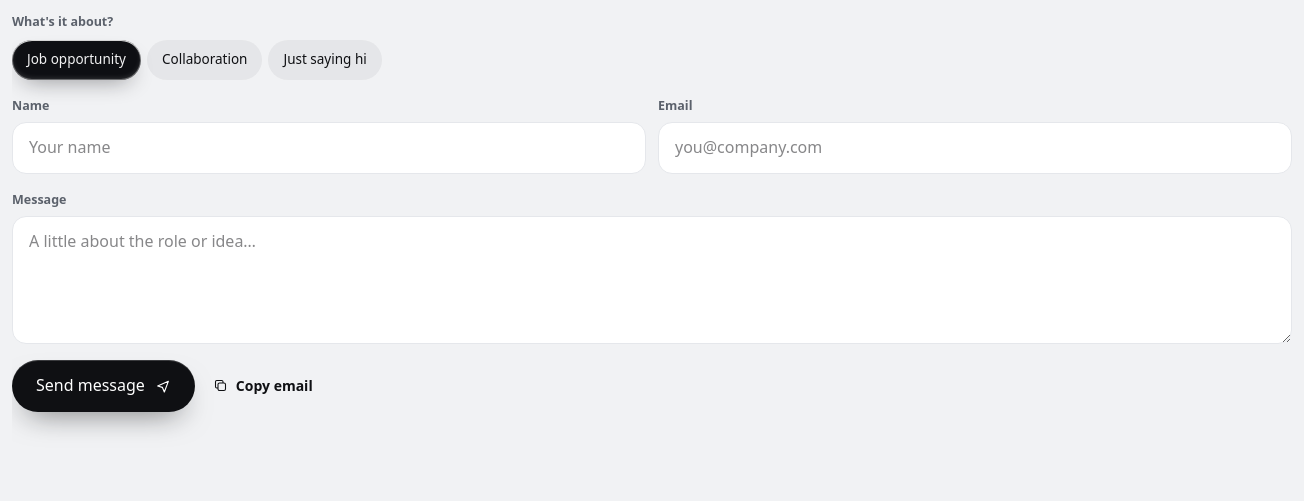
Test case: contact delivery states › validates locally before any request
Click the button "Send message": (103, 386) [12,360,195,412]
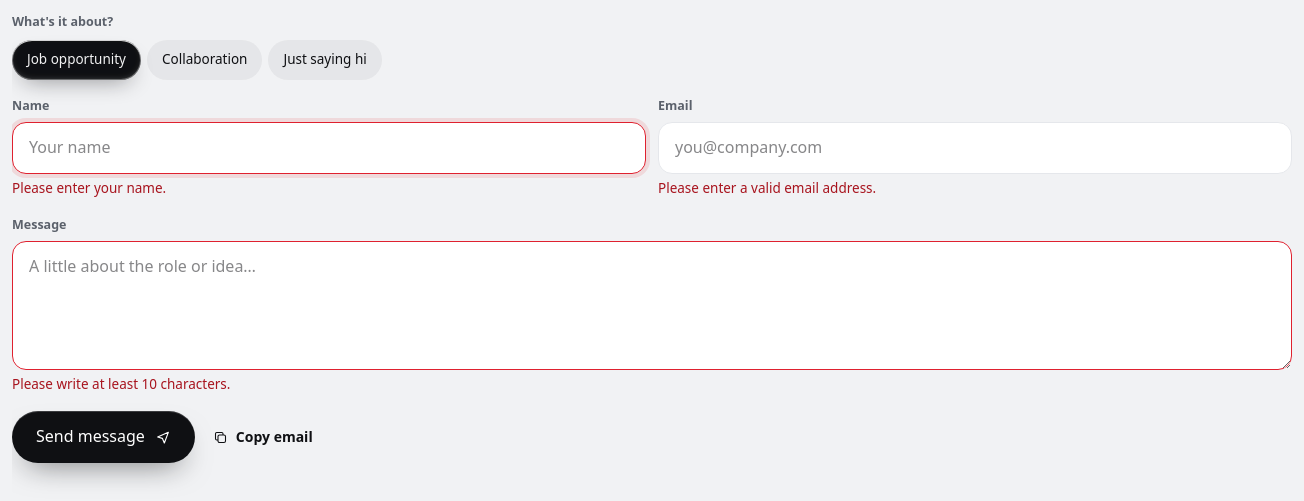
Result: the text "Please enter your name." is shown at [12,179,166,197]
